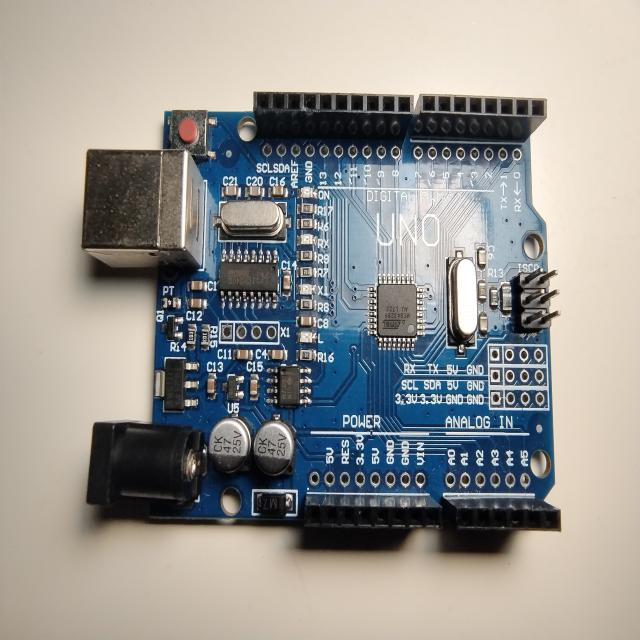arduino: (64, 84, 566, 559)
